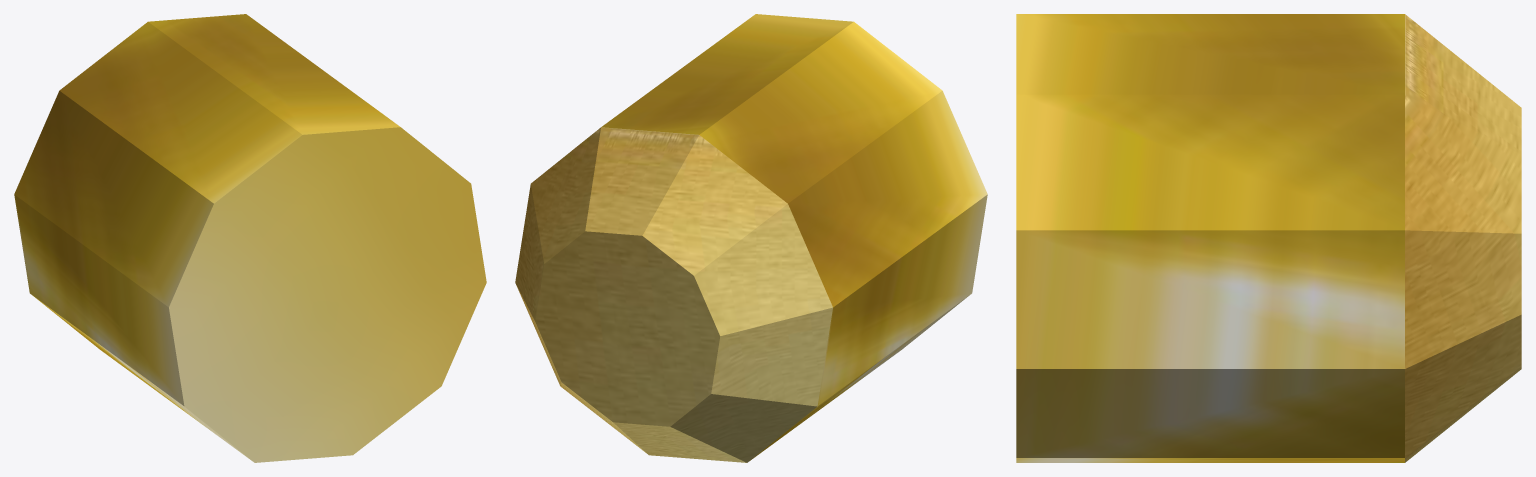
File: bullet.obj
3 renders of one model, left to right at view 1: azimuth 30°, elevation 25°; view 2: azimuth 150°, elevation 25°; view 3: azimuth 270°, elevation 25°, orthographic. The views are drawn at different scales.
Size of the model in its own units: 0.0879 by 0.0879 by 0.0962.
